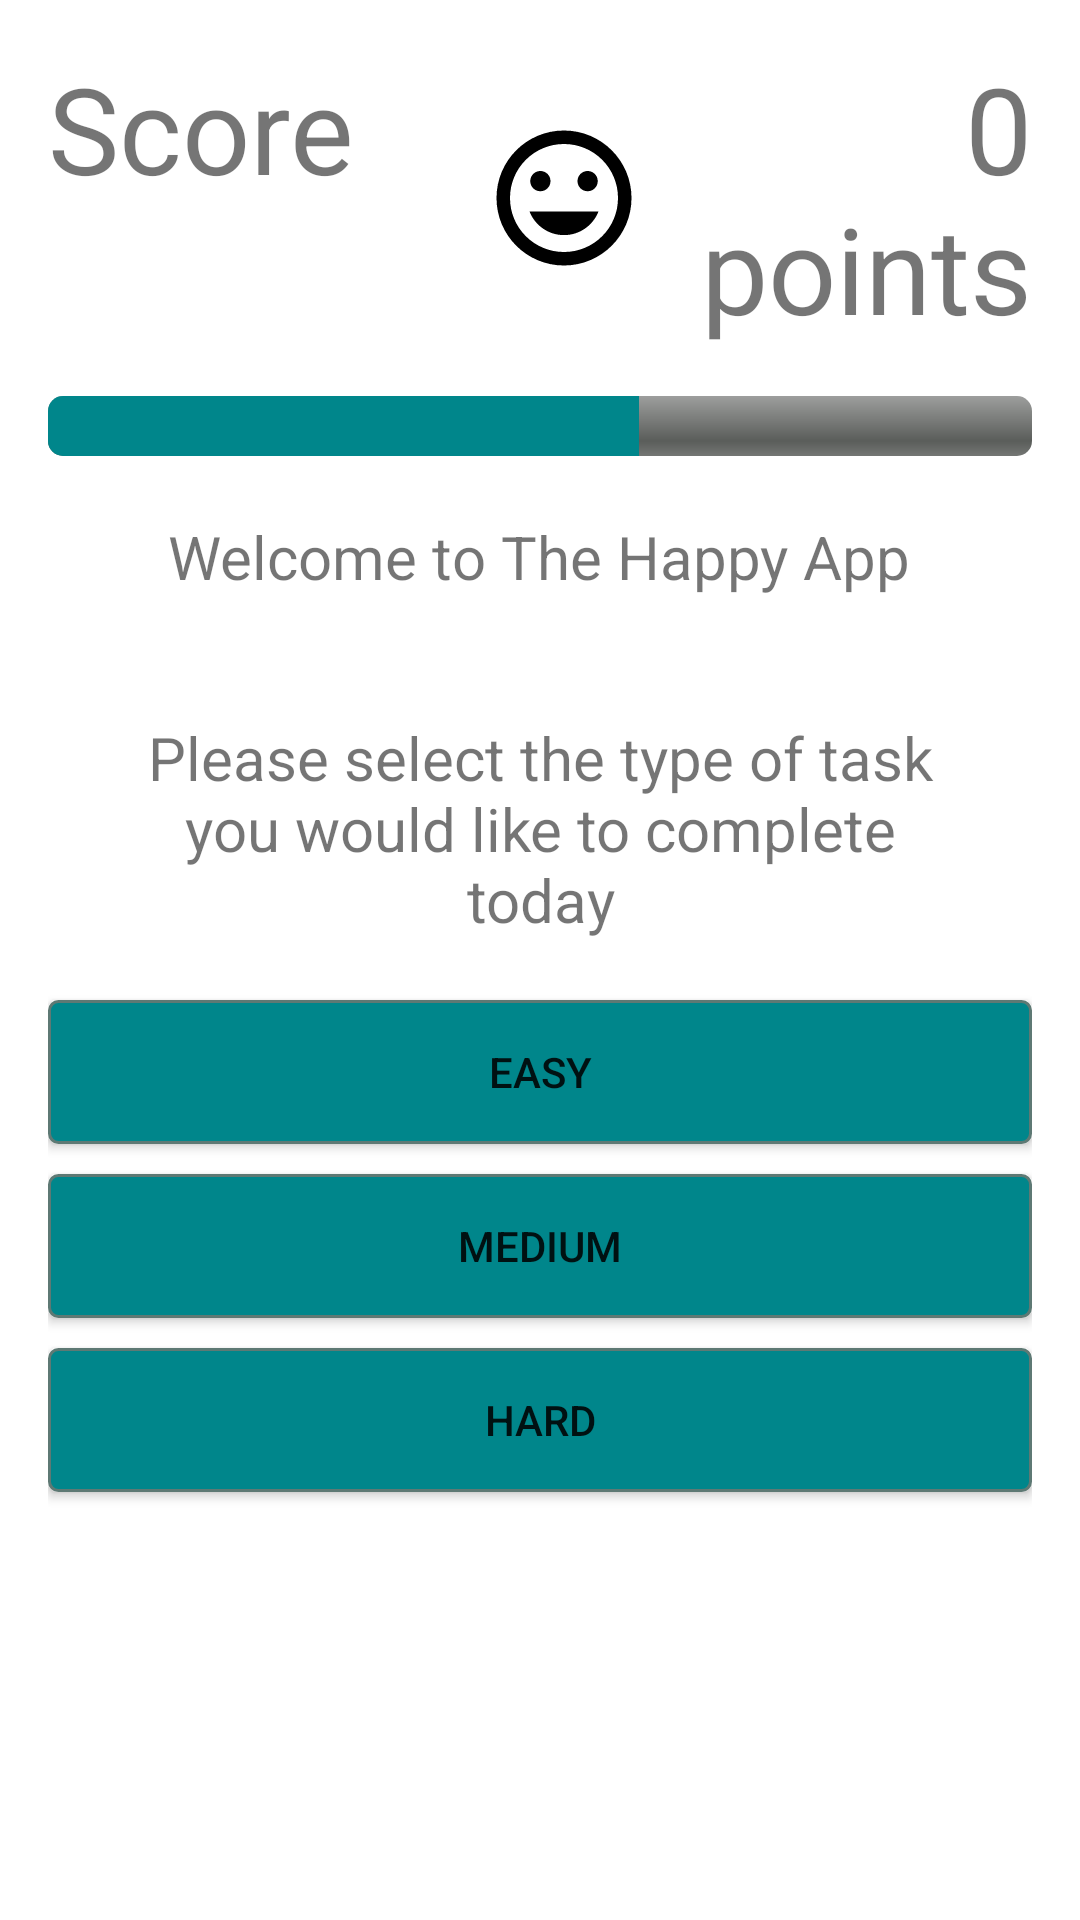

Named icons in this screenshot (1080x1920) and their bounding boxes, (x1, y1, x2, y2):
smile: (496, 130, 632, 266)
